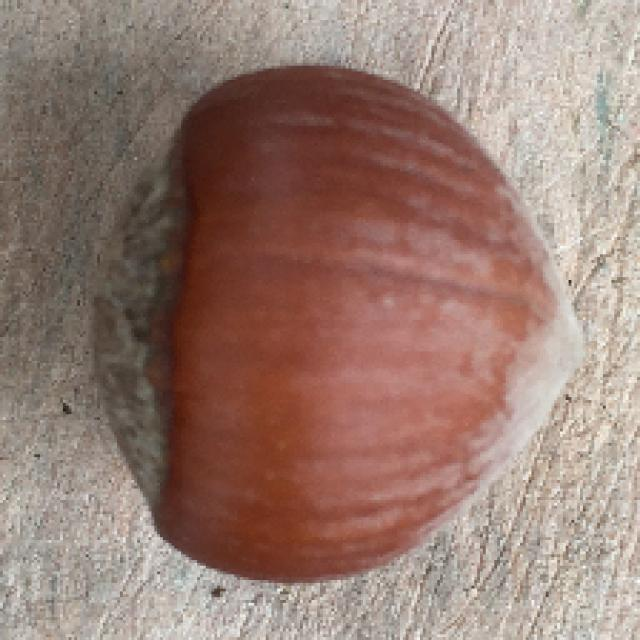qualityHazelnut: (101, 53, 591, 582)
